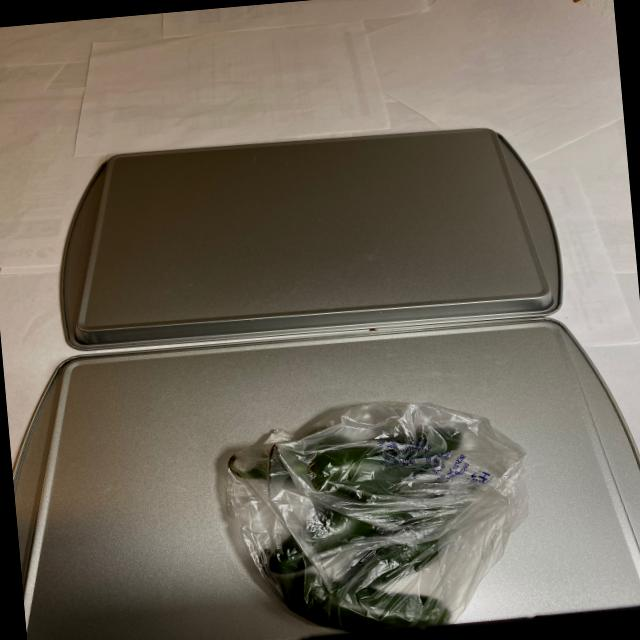chilli: (216, 417, 492, 640)
